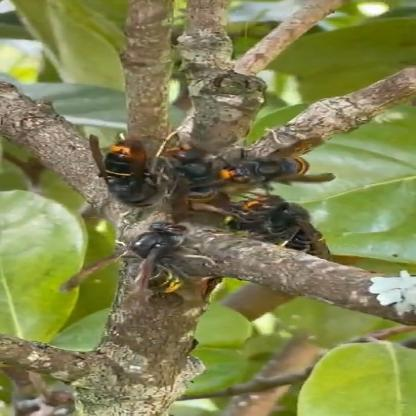bee: (31, 101, 357, 327)
